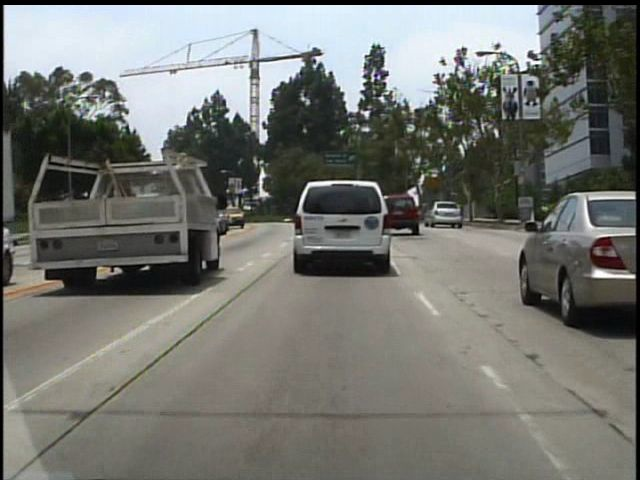person: (421, 195, 428, 224)
